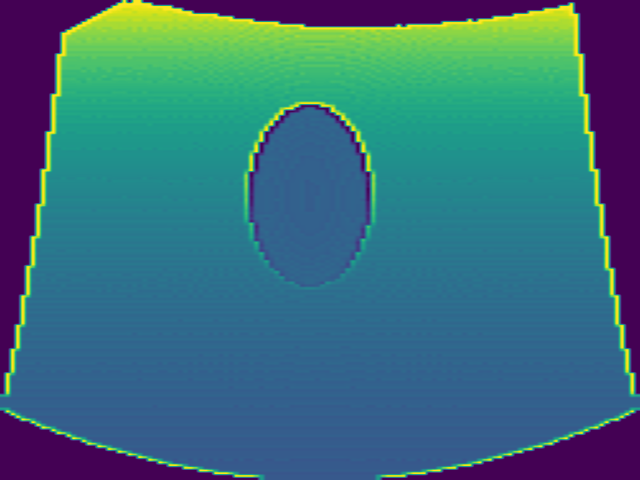sphere: (244, 103, 376, 287)
